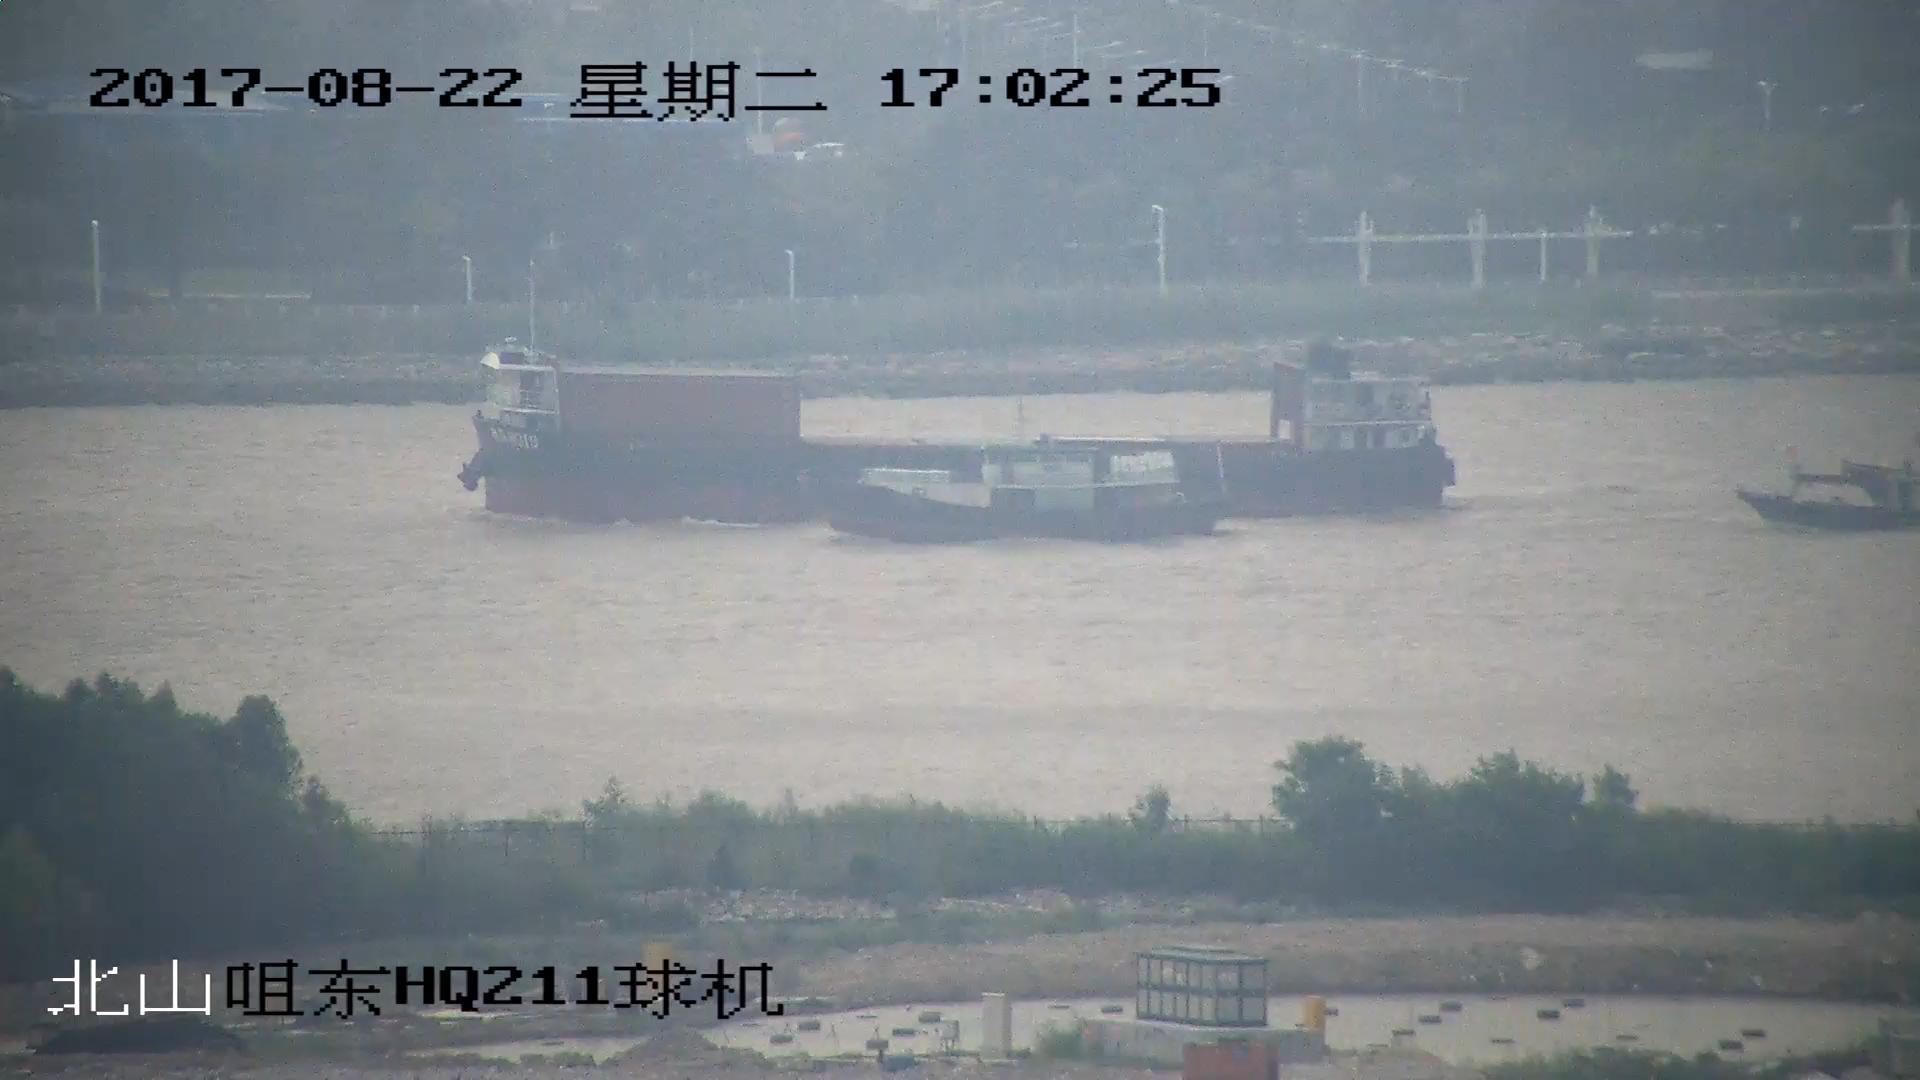Ship: (454, 334, 1451, 527), (829, 447, 1205, 551), (1739, 454, 1920, 531)
